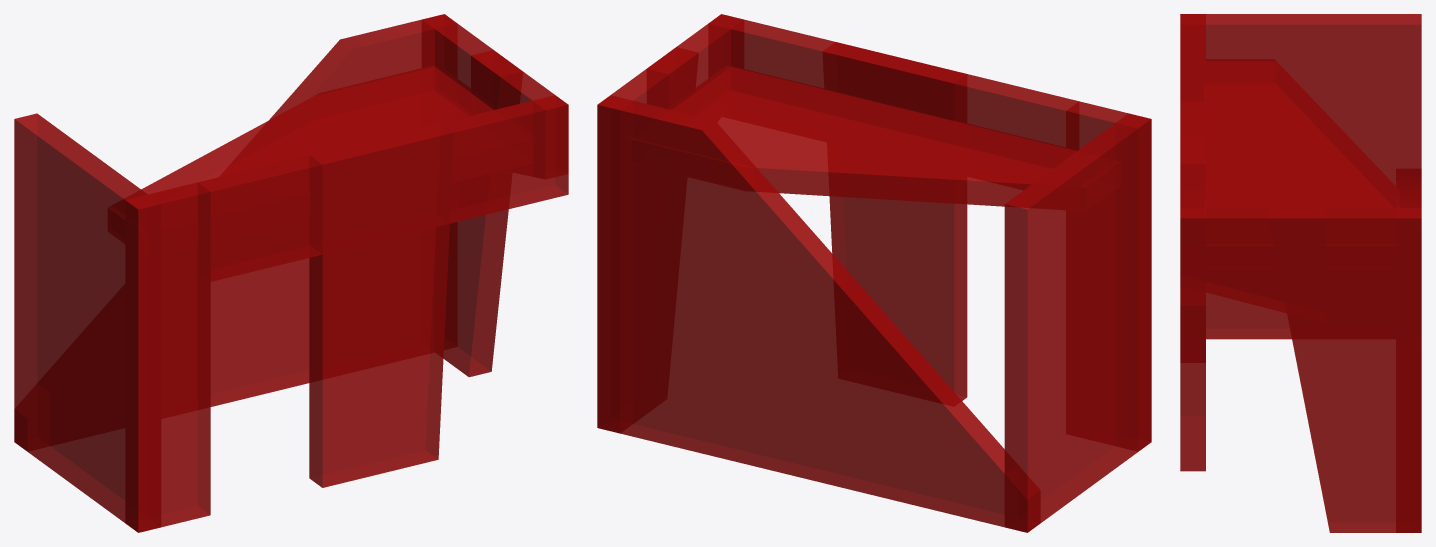
Rendered from SM_Bld_Village_House_07_Destroyed_Collision.fbx.
The picture shows the model from 3 angles, left to right: view 1: azimuth 30°, elevation 25°; view 2: azimuth 150°, elevation 25°; view 3: azimuth 270°, elevation 25°; orthographic projection. The views are drawn at different scales.
Parts seen in each view (by area): view 1: SM_Bld_Village_House_07_Destroyed_Collision; view 2: SM_Bld_Village_House_07_Destroyed_Collision; view 3: SM_Bld_Village_House_07_Destroyed_Collision.
Boxes of the visible parts, bbox=[...] form: SM_Bld_Village_House_07_Destroyed_Collision: bbox=[14, 14, 568, 532]; SM_Bld_Village_House_07_Destroyed_Collision: bbox=[597, 14, 1151, 532]; SM_Bld_Village_House_07_Destroyed_Collision: bbox=[1180, 14, 1421, 532].
Size of the model in its own units: 473 by 339 by 236.
